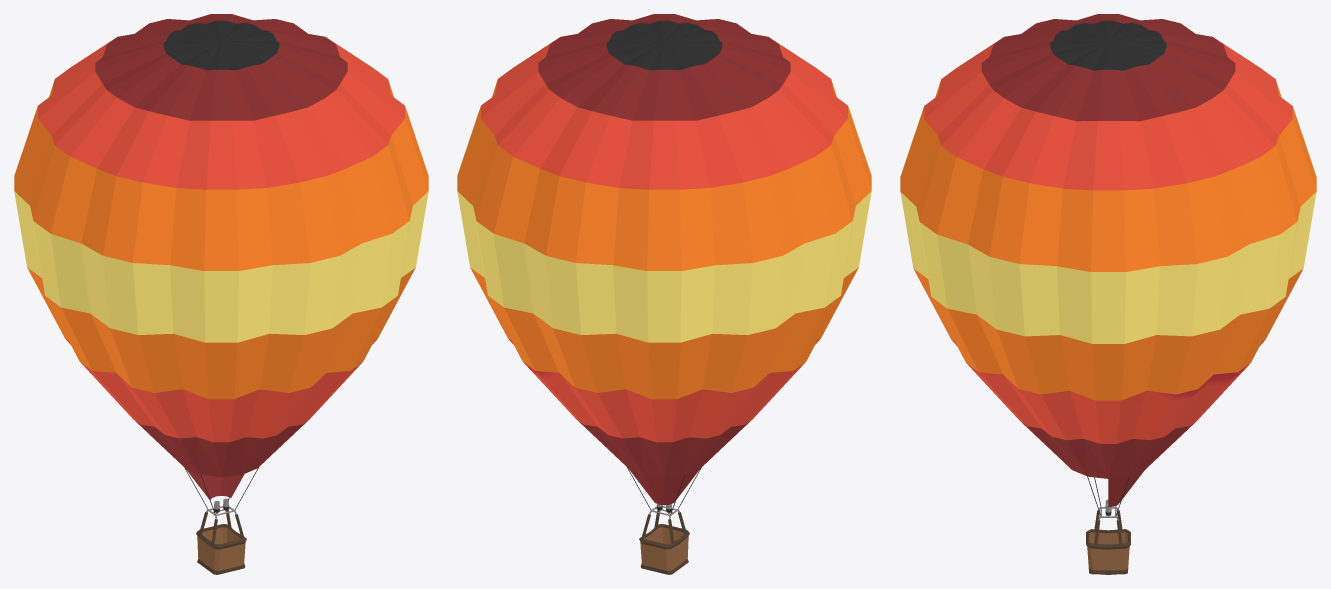
The model's file is balloon.glb.
The picture shows the model from 3 angles, left to right: view 1: azimuth 30°, elevation 25°; view 2: azimuth 150°, elevation 25°; view 3: azimuth 270°, elevation 25°; orthographic projection.
Visible parts, largest first — view 1: balloon; view 2: balloon; view 3: balloon.
Boxes of the visible parts, x1,y1,x2,y2 form: balloon: (14, 14, 428, 574); balloon: (457, 14, 871, 574); balloon: (900, 14, 1316, 574).
Size of the model in its own units: 16.03 by 22.43 by 16.03.
Materials: 1 (1 with a texture image).
